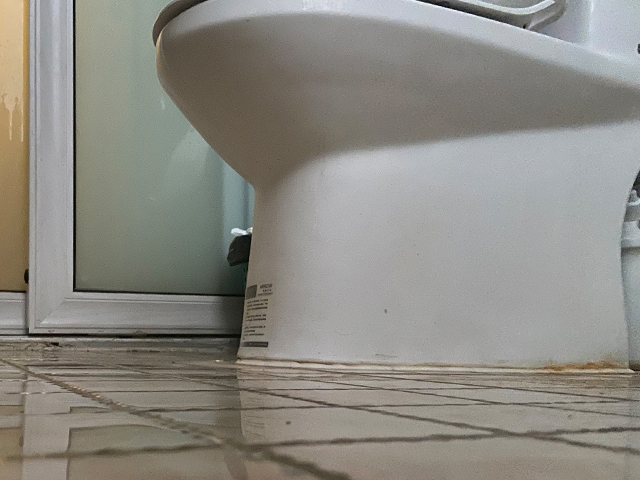closestool: (148, 1, 640, 368)
